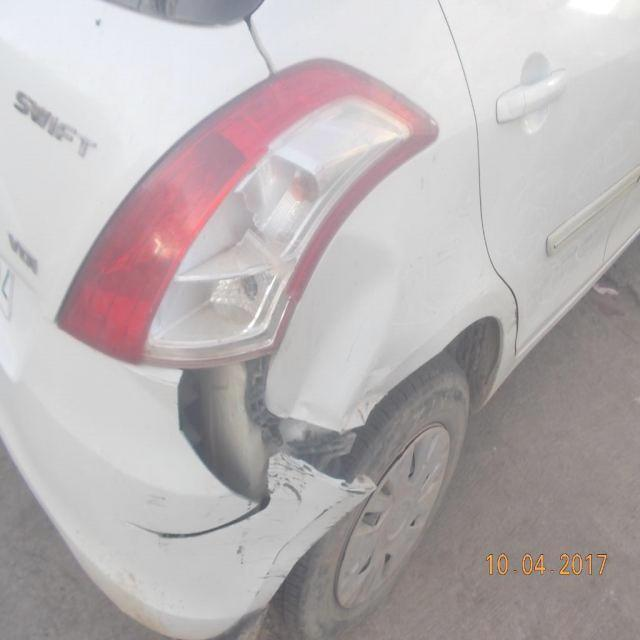minor: (126, 231, 397, 507), (279, 483, 303, 504), (239, 543, 256, 564)
moderate: (76, 62, 435, 366), (134, 502, 261, 539)
